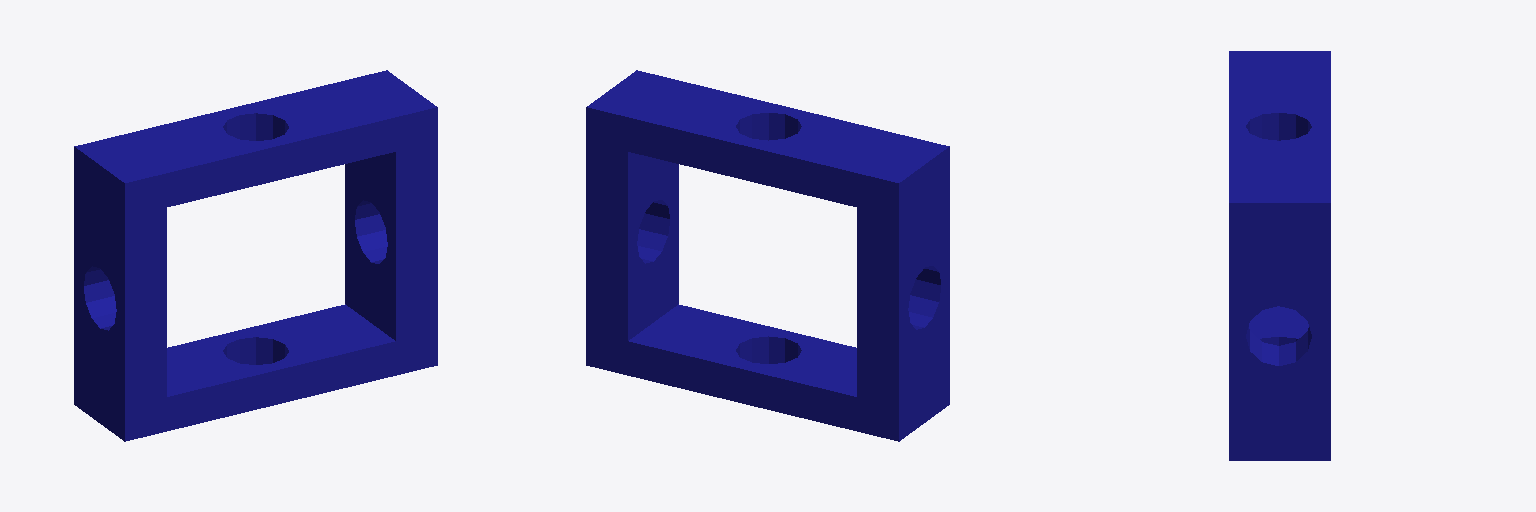
Rendered from B_TAA.obj.
The picture shows the model from 3 angles: view 1: azimuth 30°, elevation 25°; view 2: azimuth 150°, elevation 25°; view 3: azimuth 270°, elevation 25°; orthographic projection.
Size of the model in its own units: 4.82 by 3.81 by 1.35.